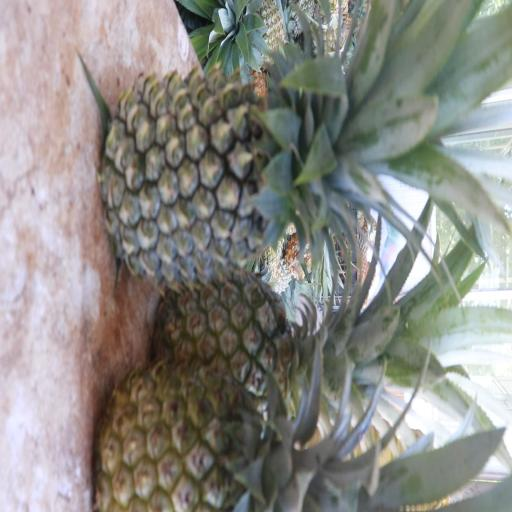------------------------------: (89, 354, 434, 512), (150, 253, 388, 433)
